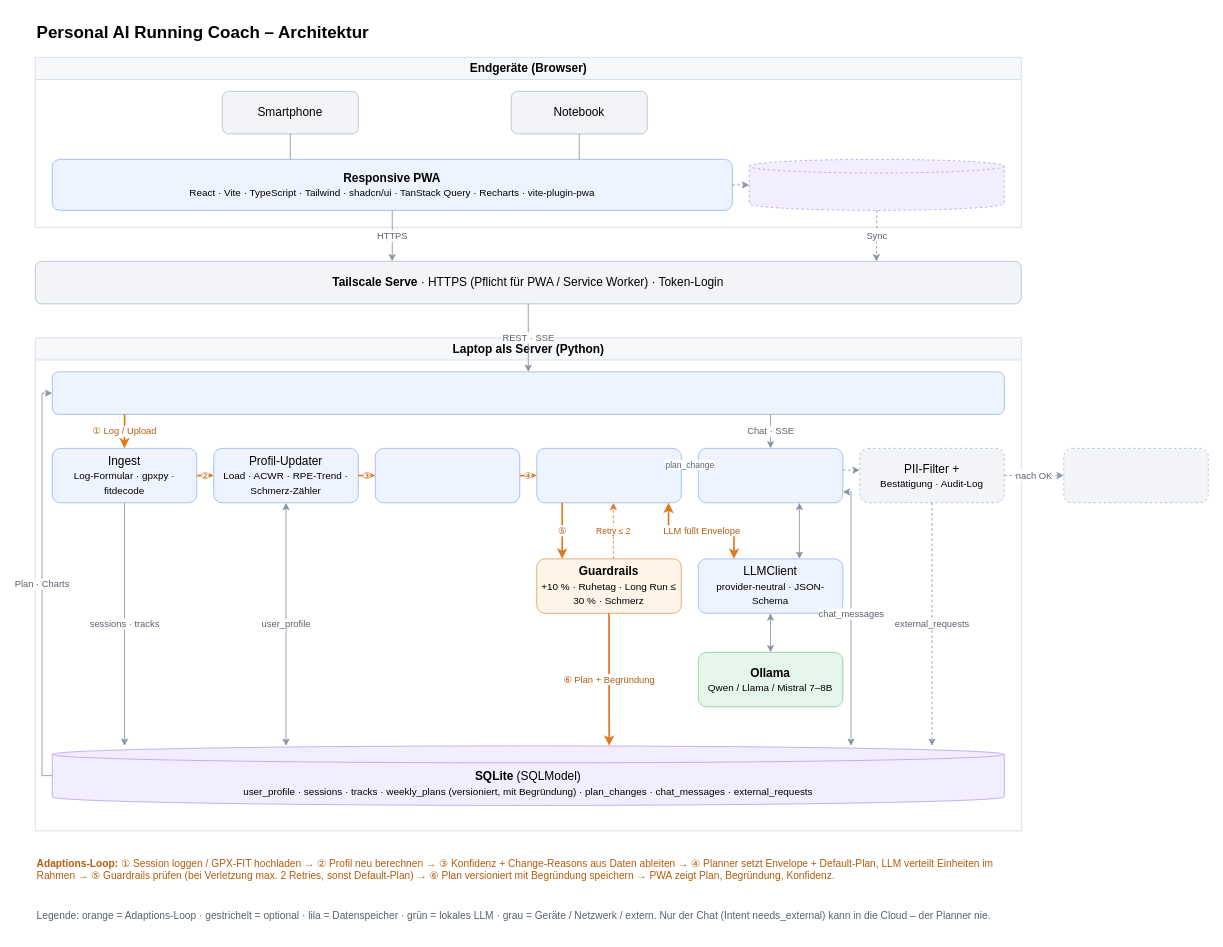
This 1223x947 diagram has some shape labels left out. Here are the shapes that lost their labels. From the top down, the centre of each, then its label:
At (876,184): "IndexedDB-Queue Offline-Logging · Sync bei Verbindung".
At (527,392): "FastAPI REST + SSE-Streaming · Pydantic v2 · OpenAPI → TS-Client · Token-Auth".
At (447,475): "Konfidenz + Change-Reasons deterministisch · Datenlage · Plan-Diff".
At (608,475): "Planner Envelope + Default-Plan (Python)".
At (770,475): "Chat-Router Intent-Klassifikation + Schmerz-Regeln".
At (1135,475): "Cloud-LLM-API optionales Add-on".
